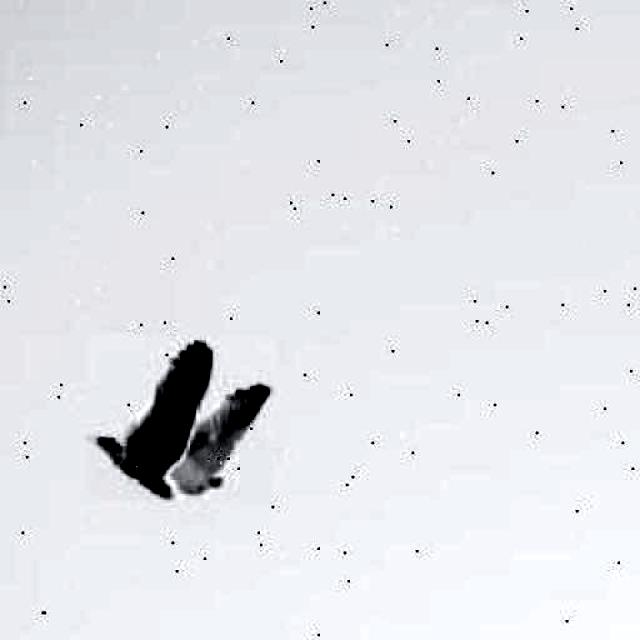airplane: (81, 332, 275, 504)
